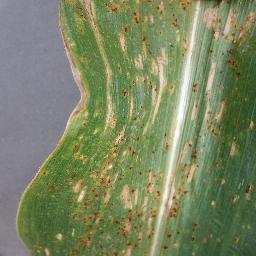Gray_Leaf_Spot: (72, 131, 190, 256), (56, 0, 172, 125), (205, 74, 227, 182), (189, 78, 206, 182), (228, 0, 247, 76), (38, 160, 73, 197), (173, 0, 193, 58), (201, 0, 228, 42), (28, 230, 65, 256), (228, 115, 243, 156), (191, 223, 215, 247), (208, 48, 226, 72), (248, 9, 256, 53), (243, 178, 255, 202), (228, 191, 239, 206), (246, 117, 256, 133), (209, 197, 220, 210), (231, 236, 242, 247)
